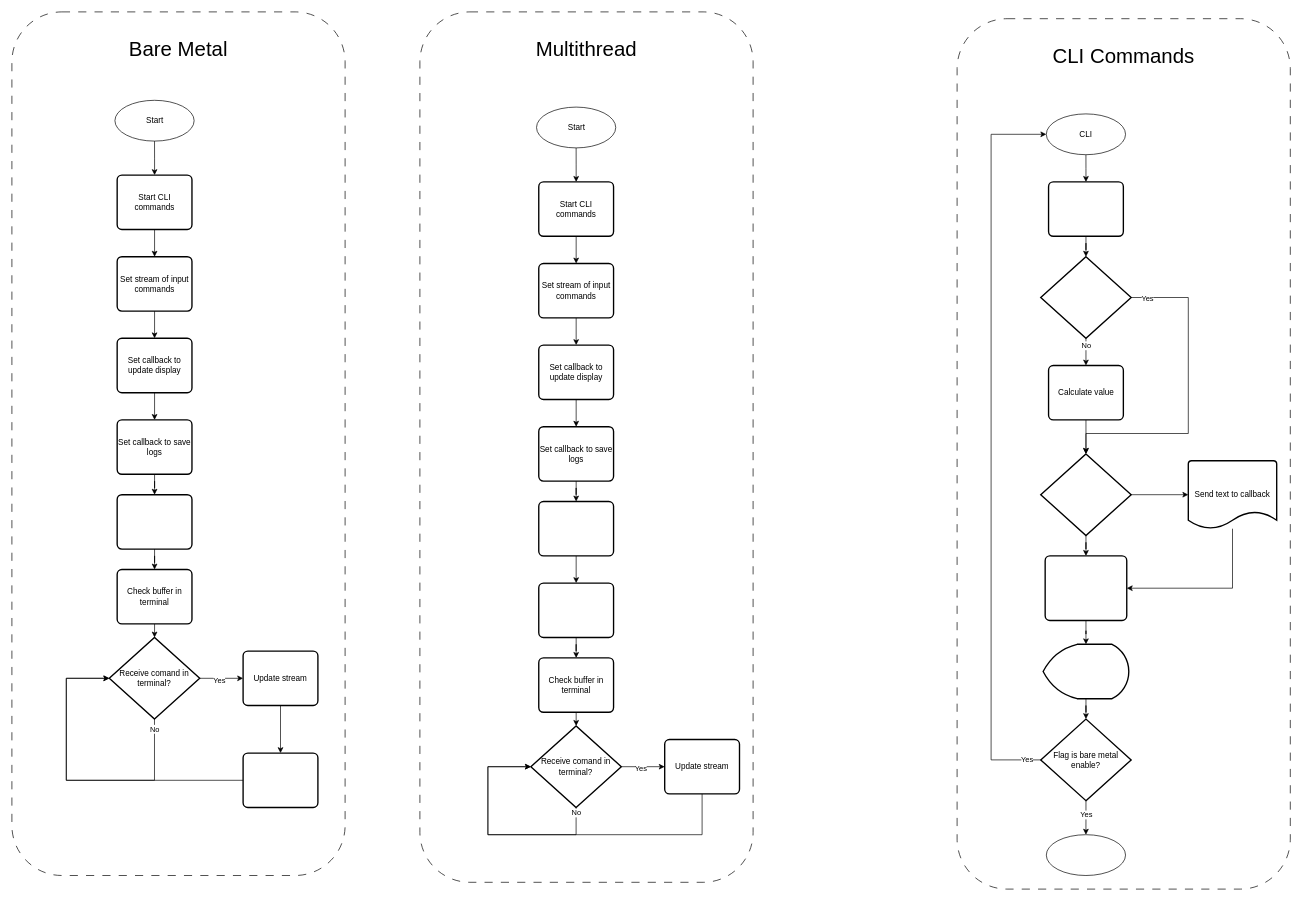
Some shapes in this 1302 by 901 pixel diagram are drawn without their labels. The centre of each missing label's shape, as x and y in pixels:
"Check CLI" goes at (x=280, y=780).
"Check stream data" goes at (x=1086, y=209).
"Error in sintax command?" goes at (x=1086, y=297).
"Logs is enable?" goes at (x=1086, y=494).
"Return" goes at (x=1086, y=855).
"Send to update dispay callback" goes at (x=1085, y=588).
"Set flag bare metal" goes at (x=154, y=521).
"Set flag multithread" goes at (x=576, y=528).
"Start thread of CLI" goes at (x=576, y=610).
"Update display" goes at (x=1085, y=671).
